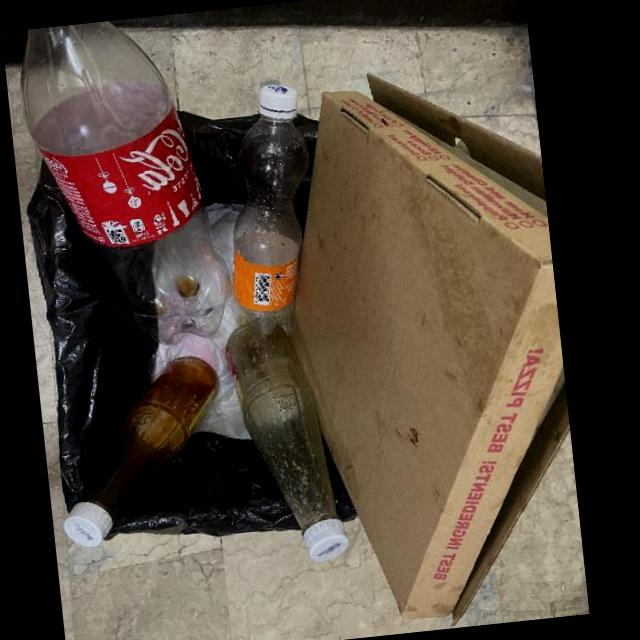carton: (292, 71, 570, 621)
chai_nhua_pet: (21, 20, 232, 341), (231, 84, 309, 334)
chai_thuy_tinh: (63, 355, 219, 546), (225, 322, 348, 560)
